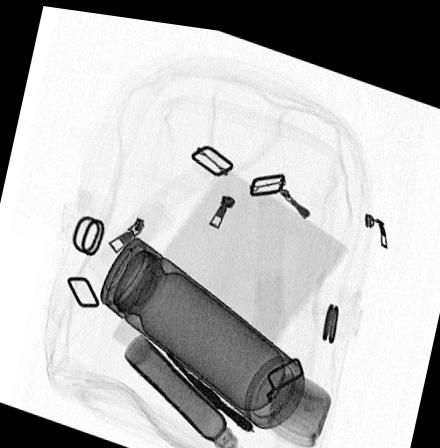Gun: (161, 338, 257, 424)
